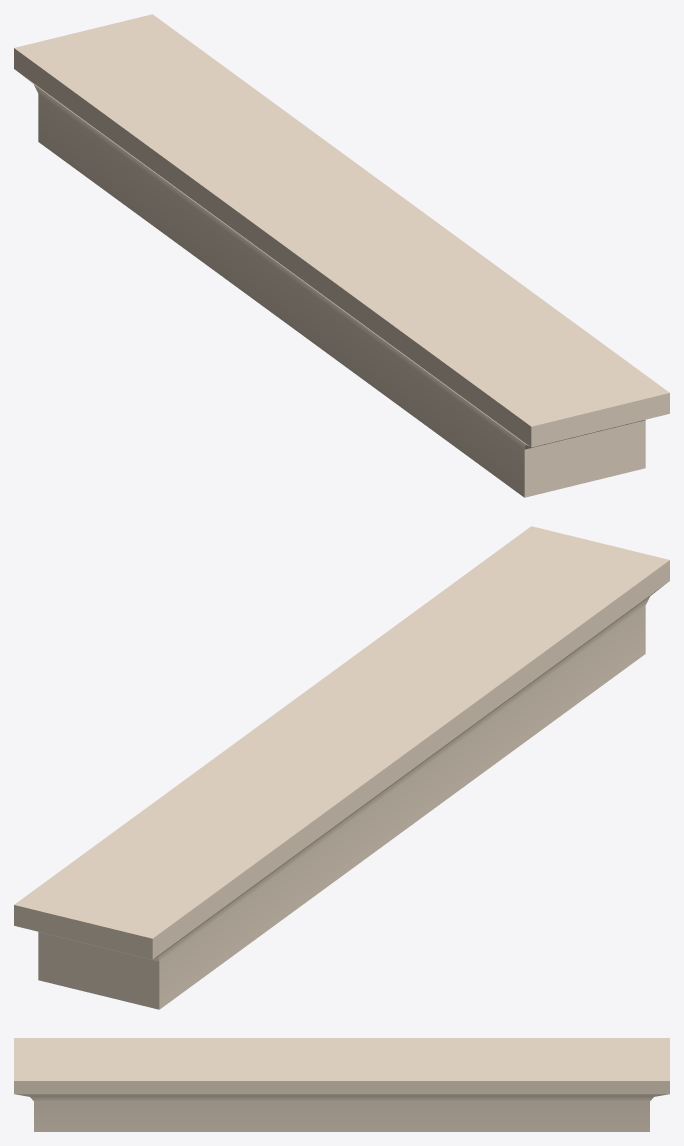
Rendered from window_decor_02.fbx.
3 renders of one model, top to bottom at view 1: azimuth 30°, elevation 25°; view 2: azimuth 150°, elevation 25°; view 3: azimuth 270°, elevation 25°, orthographic. The views are drawn at different scales.
Parts seen in each view (by area): view 1: window_decor_02; view 2: window_decor_02; view 3: window_decor_02.
Part boxes in pixels (left/top/right/bottom): window_decor_02: left=14, top=14, right=669, bottom=497; window_decor_02: left=14, top=526, right=669, bottom=1009; window_decor_02: left=14, top=1038, right=669, bottom=1131.
Size of the model in its own units: 0.5883 by 0.3435 by 3.8.
